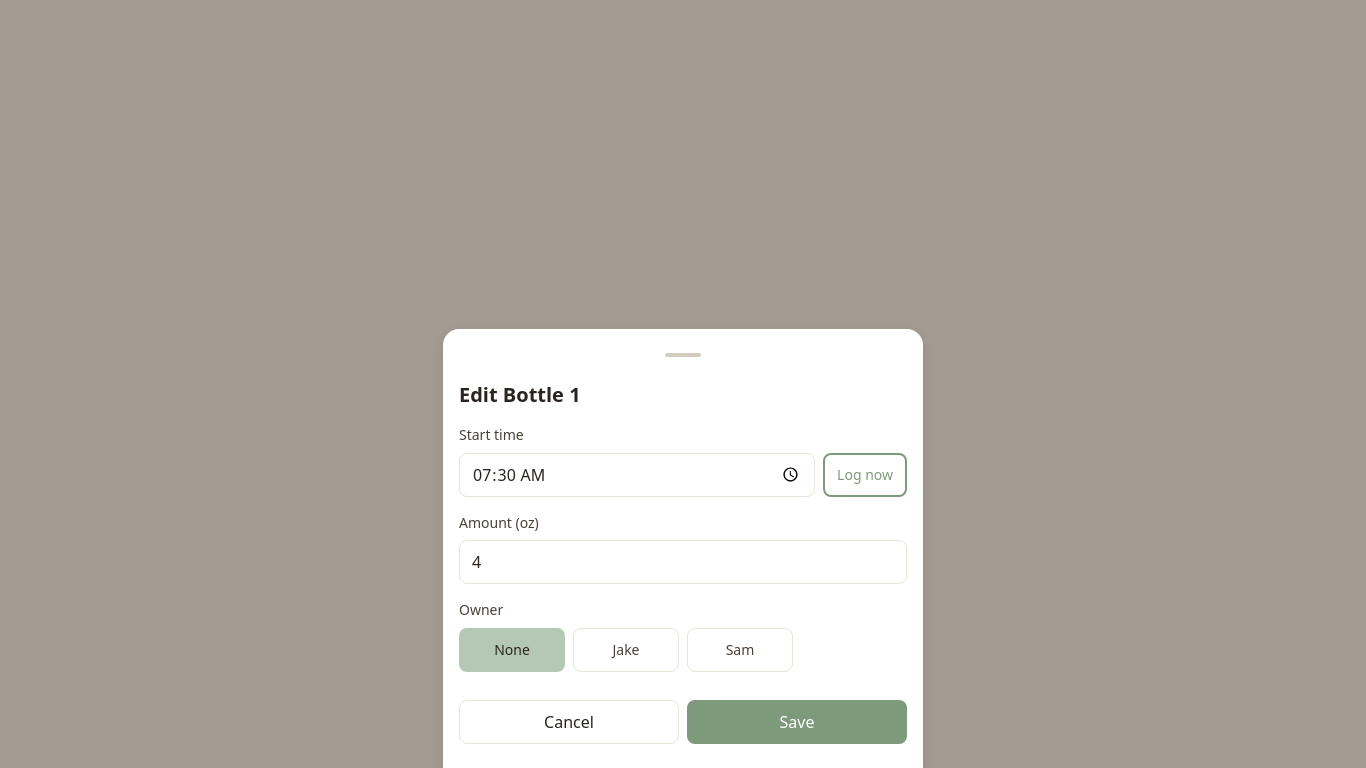
Test: Drawer now-shortcut buttons › Log now (bottle) › fills the bottle startTime with Now, leaving amount untouched
Click the button "Log now" at (865, 475), box [823, 453, 907, 497]
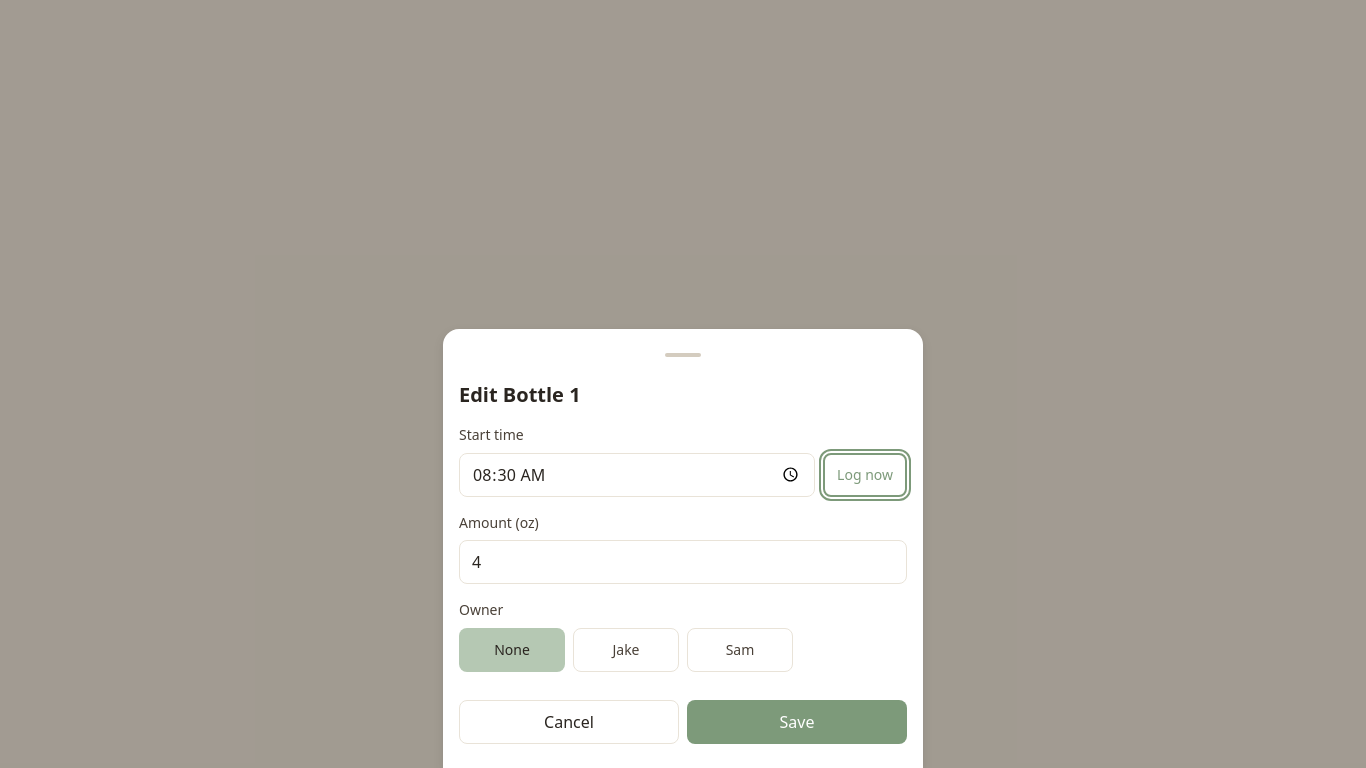
Expected: the number field labelled "Amount (oz)" holds "4", [459, 540, 907, 584]
Expected: the time field labelled "Start time" holds "08:30", [459, 453, 815, 497]
